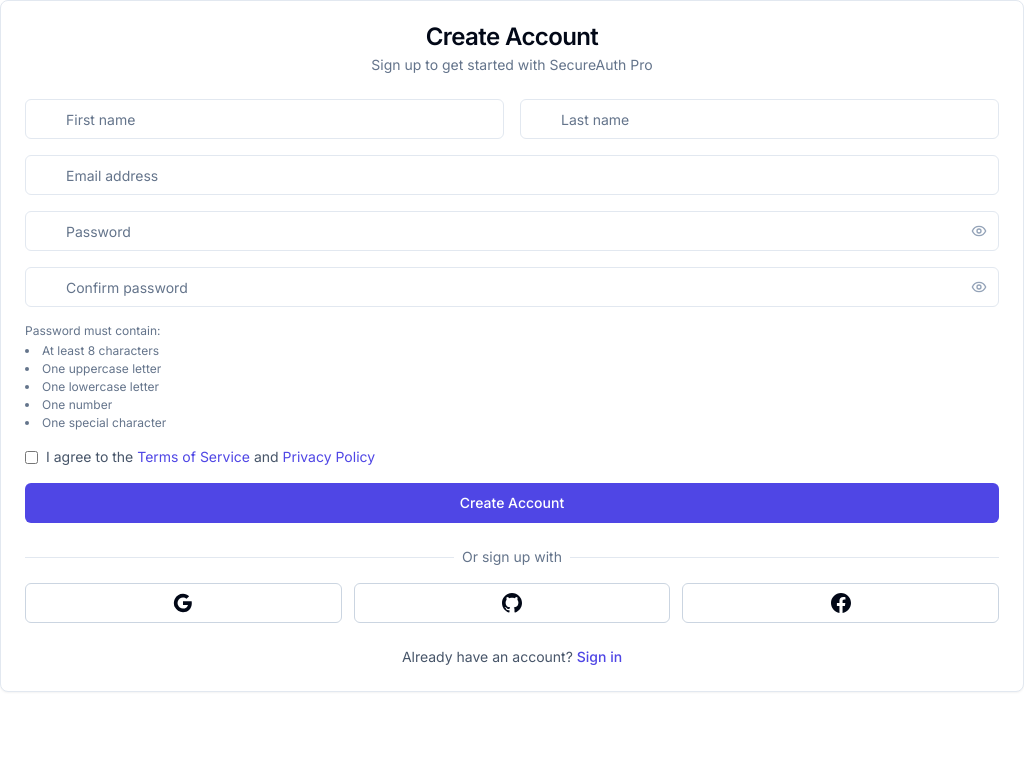
Test: RegisterPage › form submission › displays server error message
The width and height of the screenshot is (1024, 768).
Type "John" into the field with placeholder "First name".
click(264, 119); type("John")  # box [25, 99, 504, 139]
Type "Doe" into the field with placeholder "Last name".
click(760, 119); type("Doe")  # box [520, 99, 999, 139]
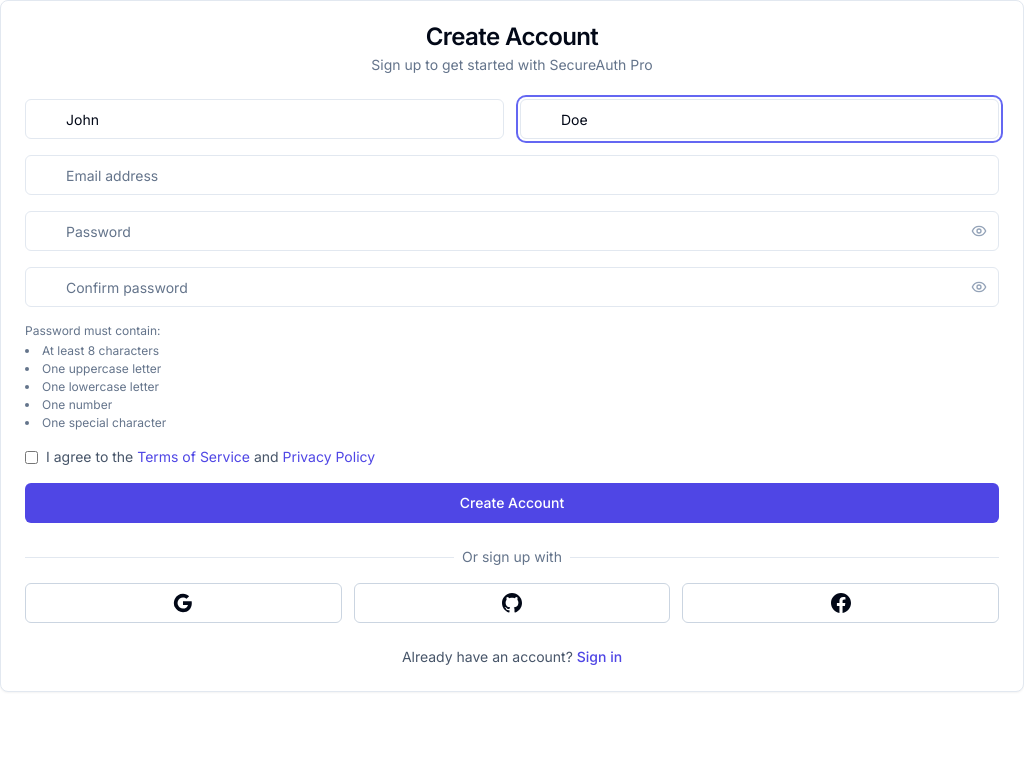
Type "john@example.com" into the field with placeholder "Email address".
click(512, 175); type("john@example.com")  # box [25, 155, 999, 195]
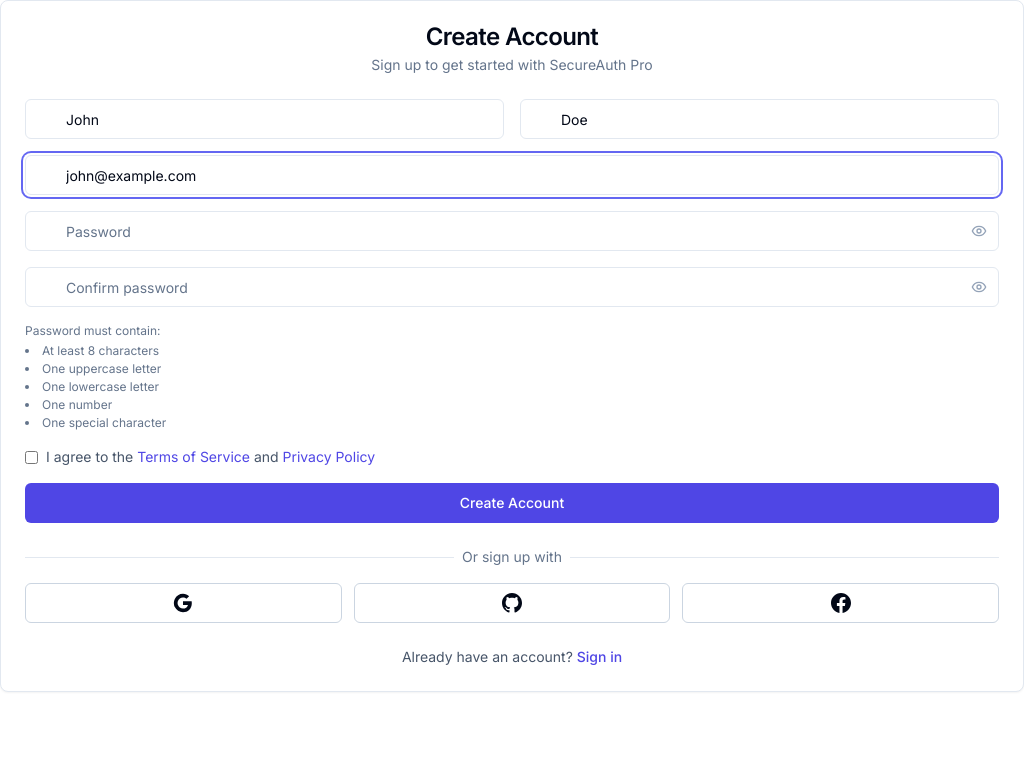
Type "Password123!" into the password field with placeholder "Password".
click(512, 231); type("Password123!")  # box [25, 211, 999, 251]
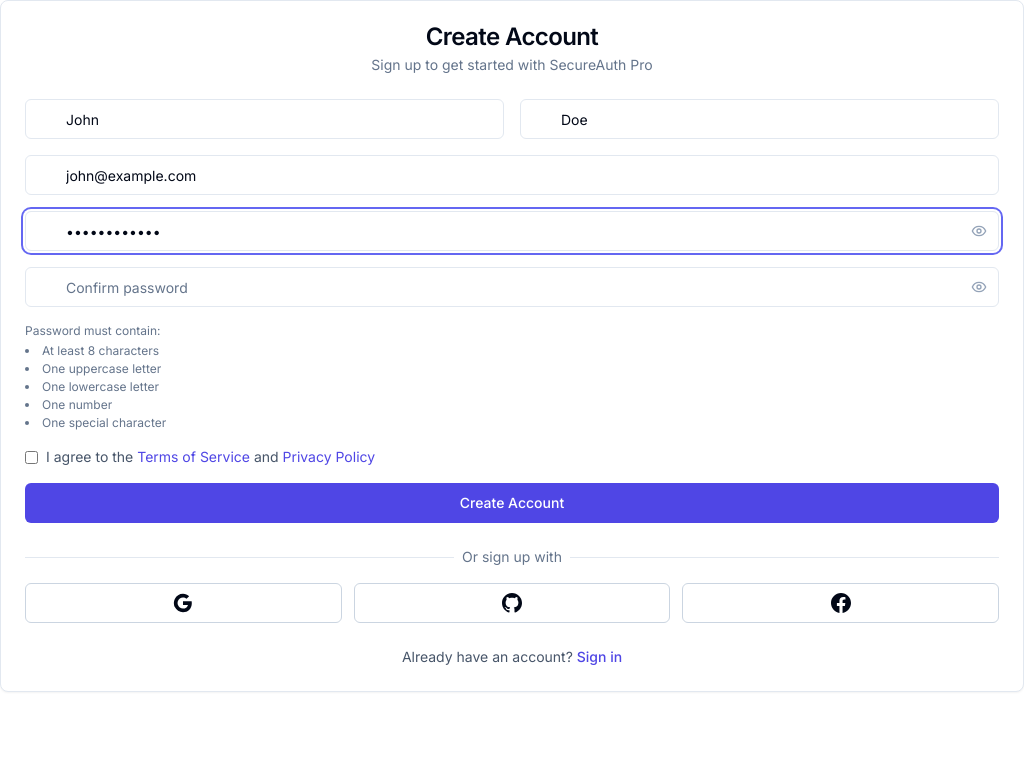
Type "Password123!" into the password field with placeholder "Confirm password".
click(512, 287); type("Password123!")  # box [25, 267, 999, 307]
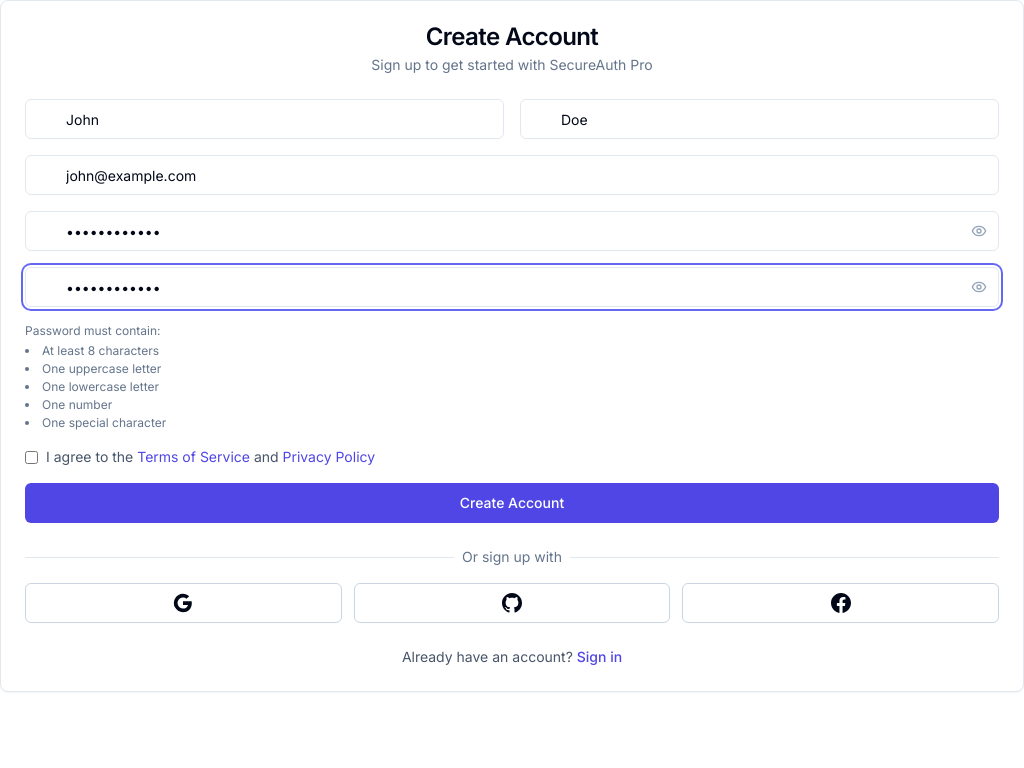
Click the checkbox labelled "I agree to the Terms of Service and Privacy Policy".
click(32, 458)  # box [25, 451, 38, 464]
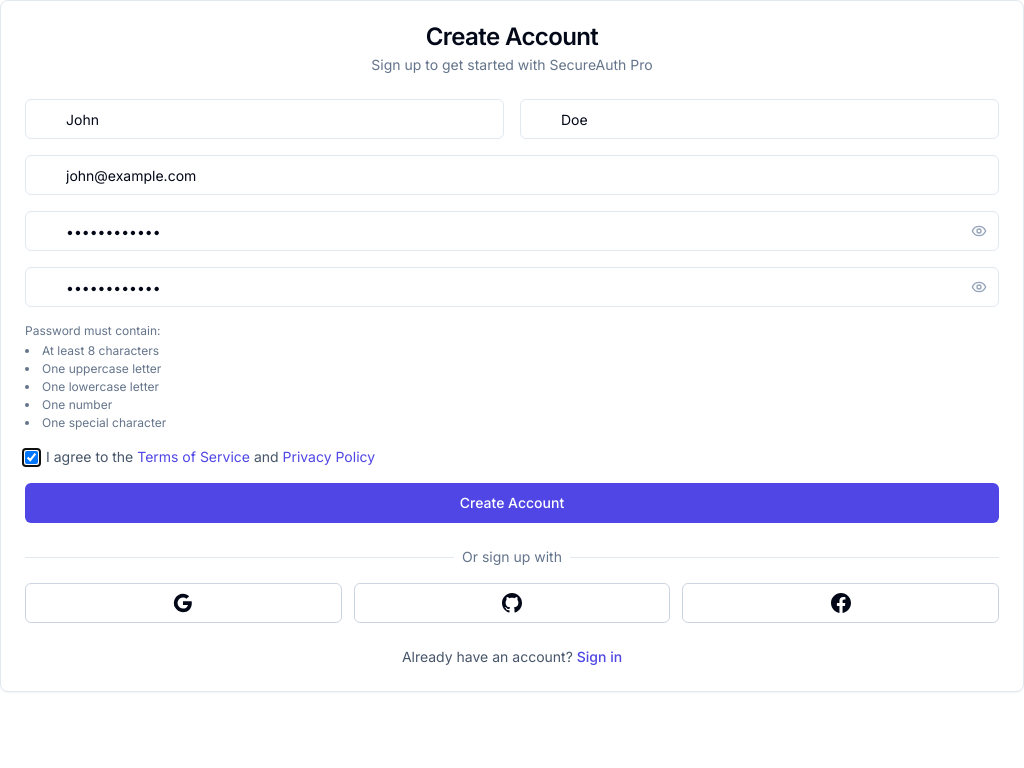
Click the button "Create Account".
click(512, 503)  # box [25, 483, 999, 523]
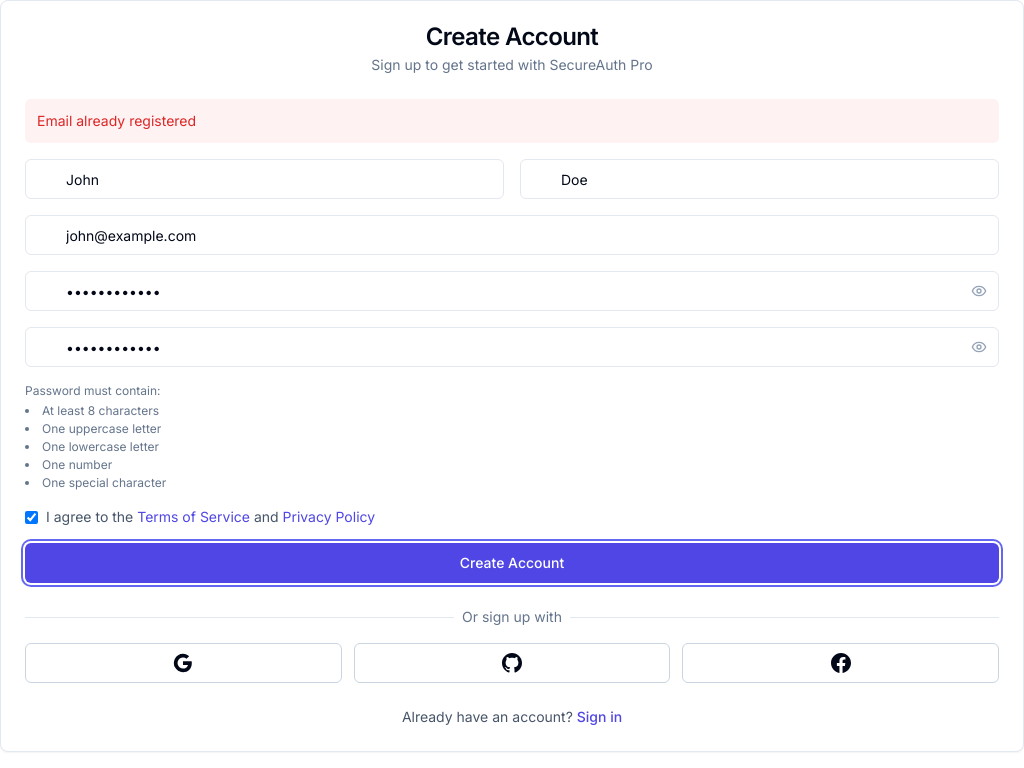
expect the text "Email already registered" is shown: met, box [25, 99, 999, 143]
